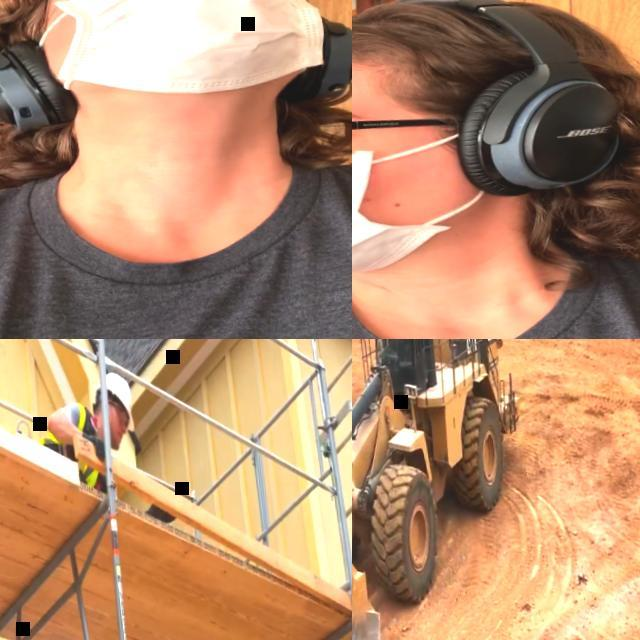helmet: (93, 369, 135, 434)
vest: (36, 399, 100, 490)
